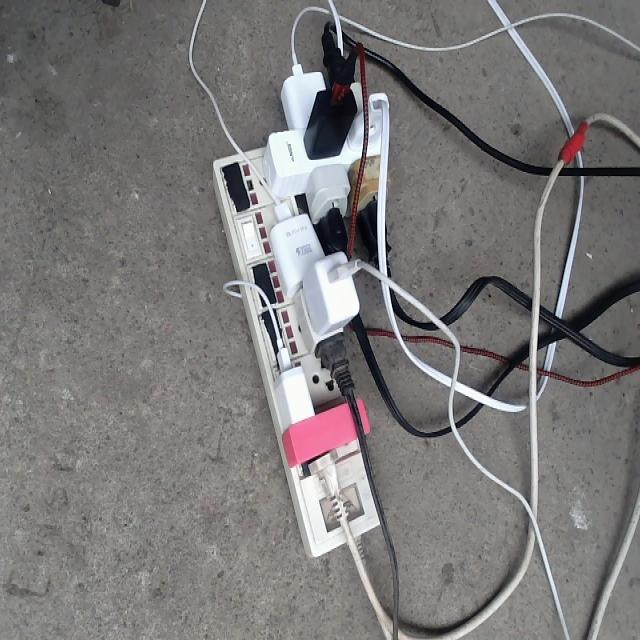-: (210, 25, 391, 556)
